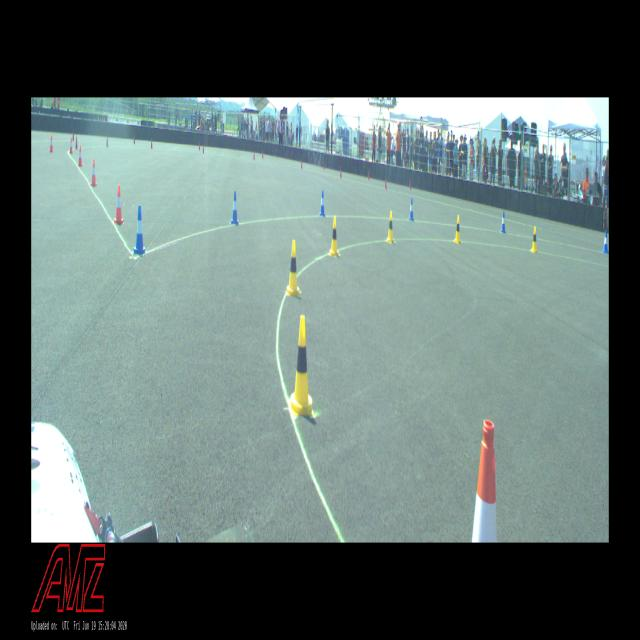blue_cone: (132, 205, 146, 257), (230, 190, 239, 226), (319, 190, 326, 217), (500, 211, 507, 234), (602, 231, 609, 254), (409, 198, 414, 221)
large_orange_cone: (472, 419, 497, 542)
orange_cone: (114, 185, 124, 225), (90, 159, 96, 187), (77, 146, 83, 167), (50, 134, 54, 154), (69, 136, 73, 154)
unknown_cone: (75, 136, 78, 150), (409, 178, 412, 191), (106, 136, 109, 148), (202, 143, 205, 154), (385, 177, 387, 190), (340, 167, 342, 179), (72, 130, 74, 141), (368, 170, 370, 181), (253, 150, 255, 161), (134, 134, 136, 144), (151, 139, 153, 149), (301, 159, 303, 169), (198, 141, 200, 151), (262, 150, 264, 160), (322, 160, 324, 170)
yellow_cone: (288, 314, 316, 418), (286, 239, 301, 298), (329, 216, 340, 257), (386, 211, 395, 243), (454, 215, 461, 244), (531, 226, 538, 253)
